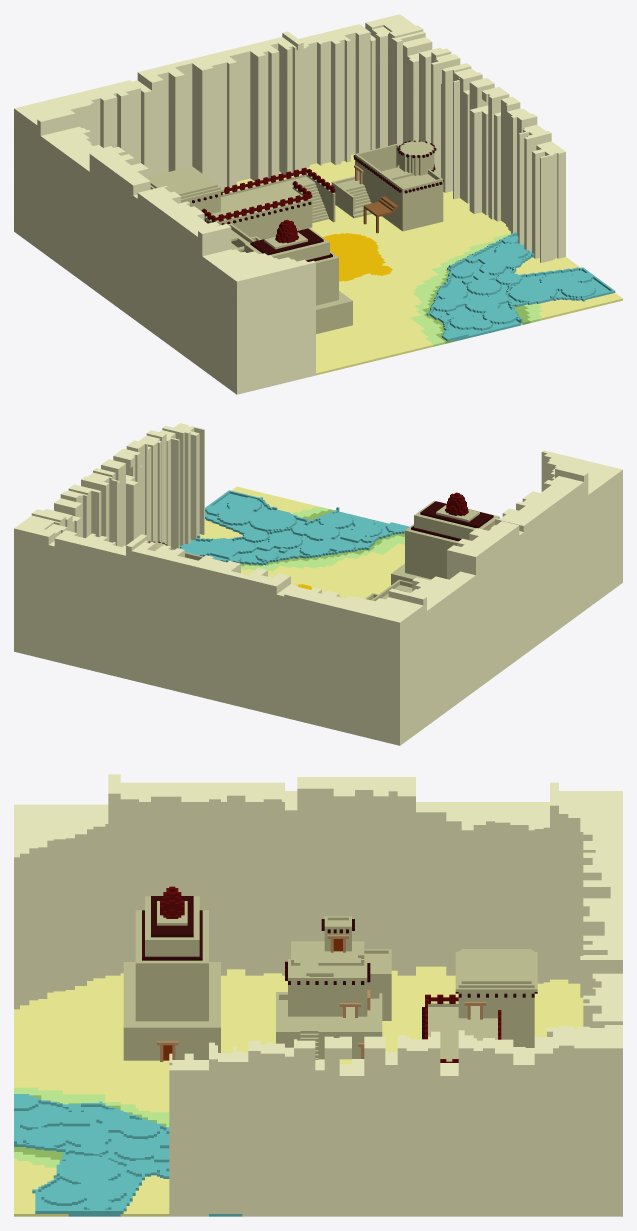
File: Mapa-1-Terreno.obj
3 views of the same model, one above another, from view 1: azimuth 30°, elevation 25°; view 2: azimuth 150°, elevation 25°; view 3: azimuth 270°, elevation 25° (orthographic). The views are drawn at different scales.
Visible parts, largest first — view 1: Terreno; view 2: Terreno; view 3: Terreno.
Boxes of the visible parts, x1,y1,x2,y2 form: Terreno: (14, 14, 622, 394); Terreno: (14, 423, 622, 745); Terreno: (14, 774, 622, 1216).
Size of the model in its own units: 20 by 6.7 by 20.
Materials: 1 (1 with a texture image).
